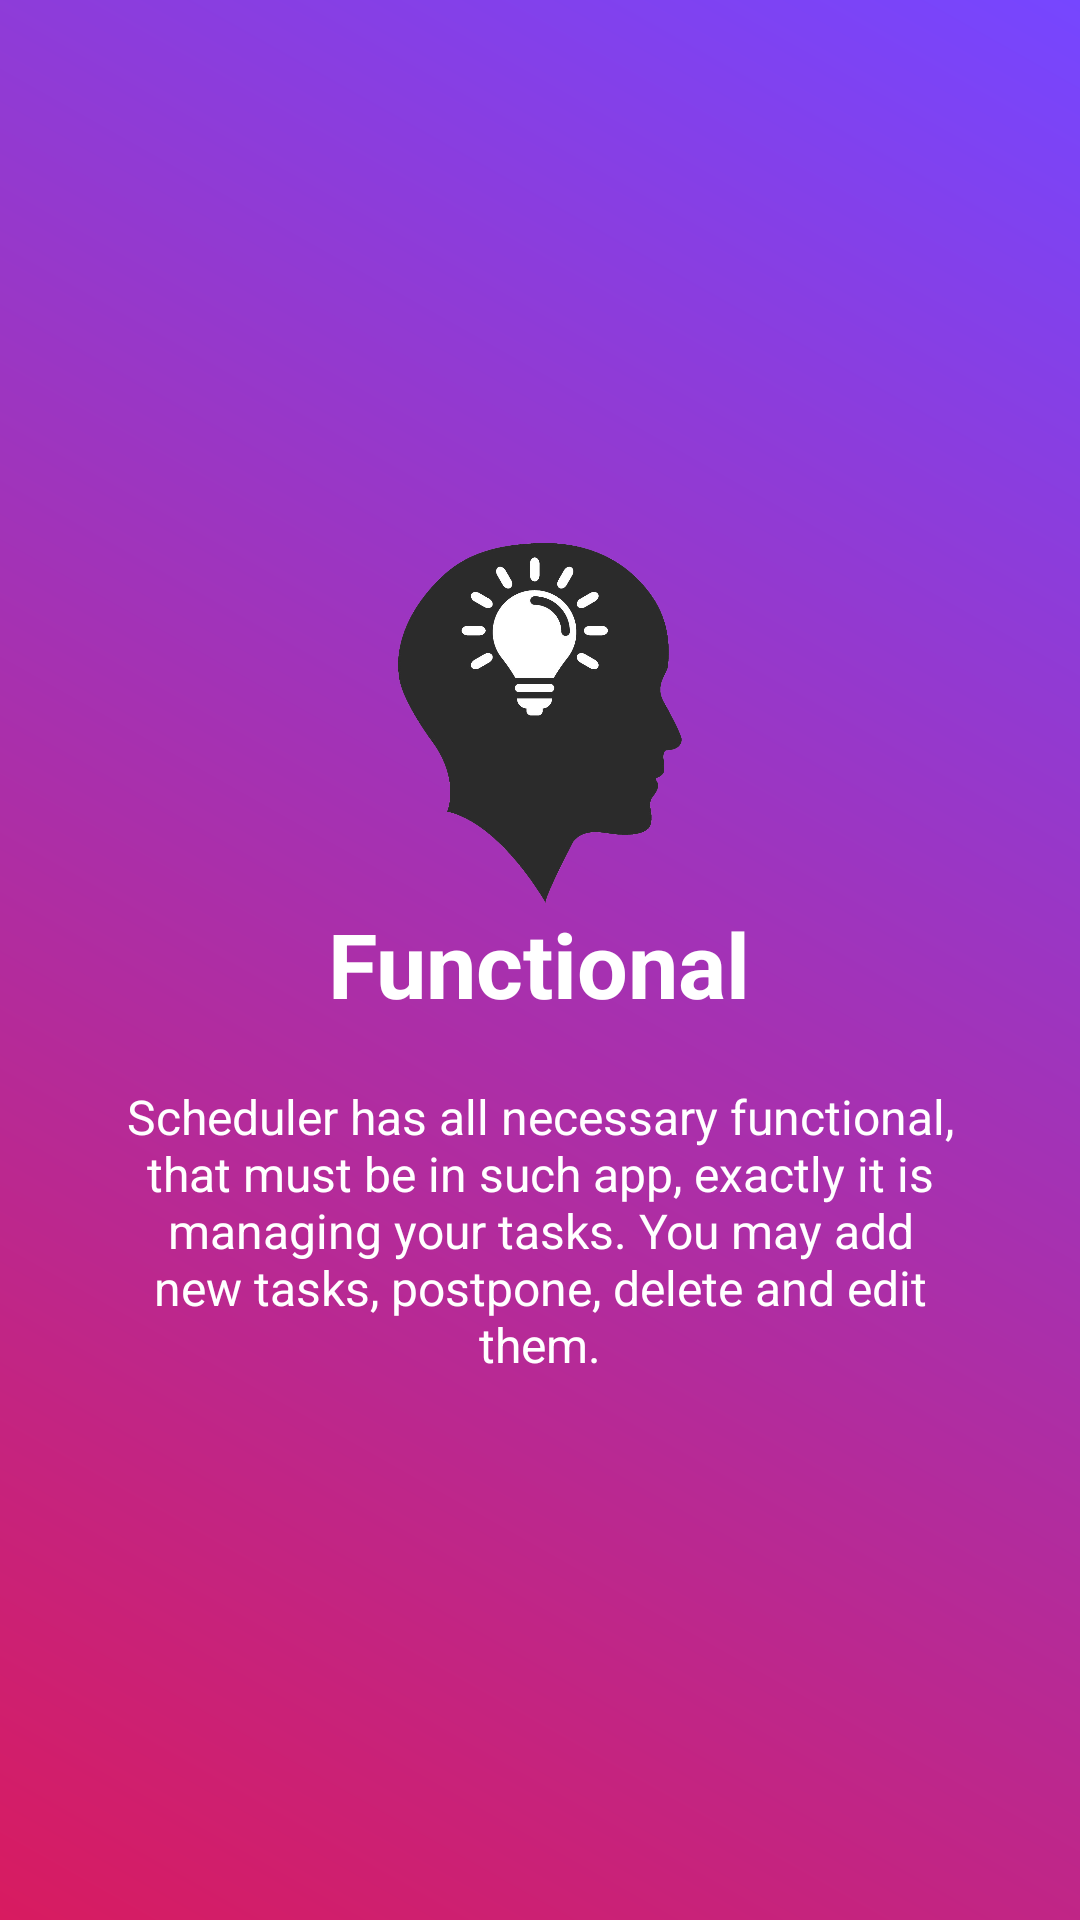

Where icons sit on this 1080px×1920px app screen, as (x1, y1, x2, y2):
mind: (398, 543, 682, 903)
